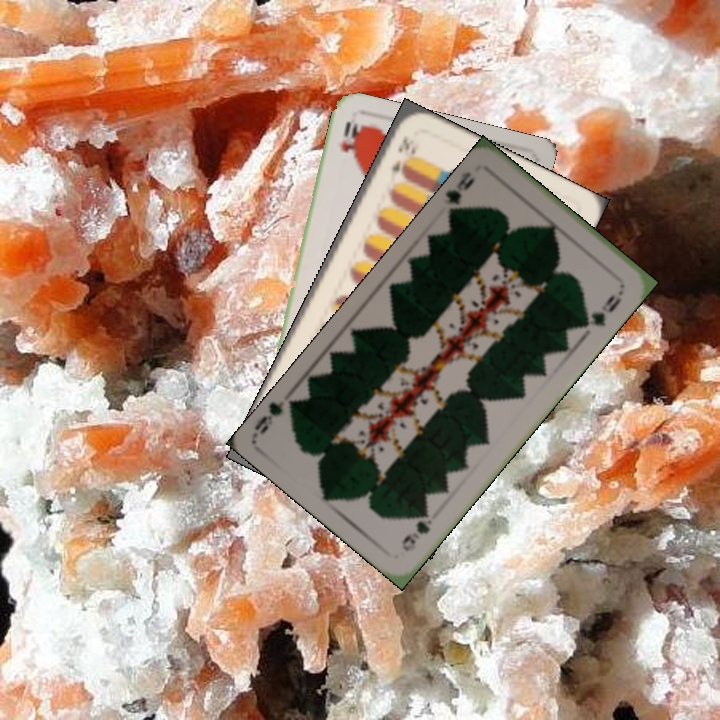E10: (385, 131, 418, 186)
G9: (397, 506, 435, 554), (443, 167, 477, 217)
HO: (335, 117, 364, 163)
